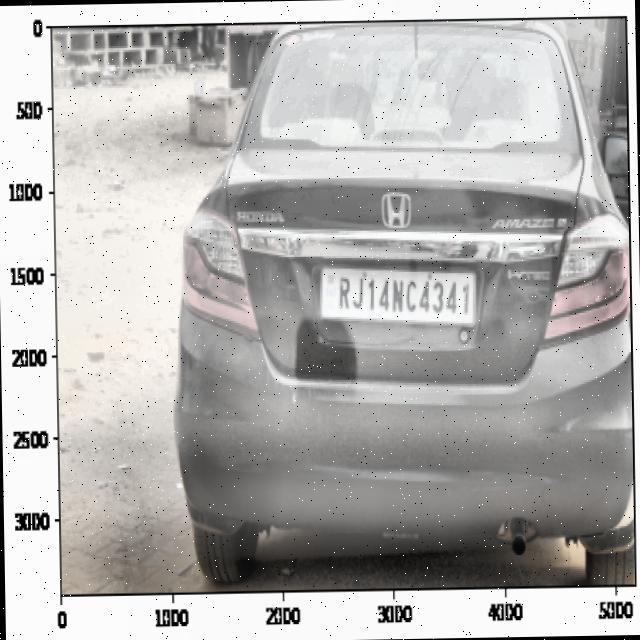license_plate: (329, 270, 474, 324)
